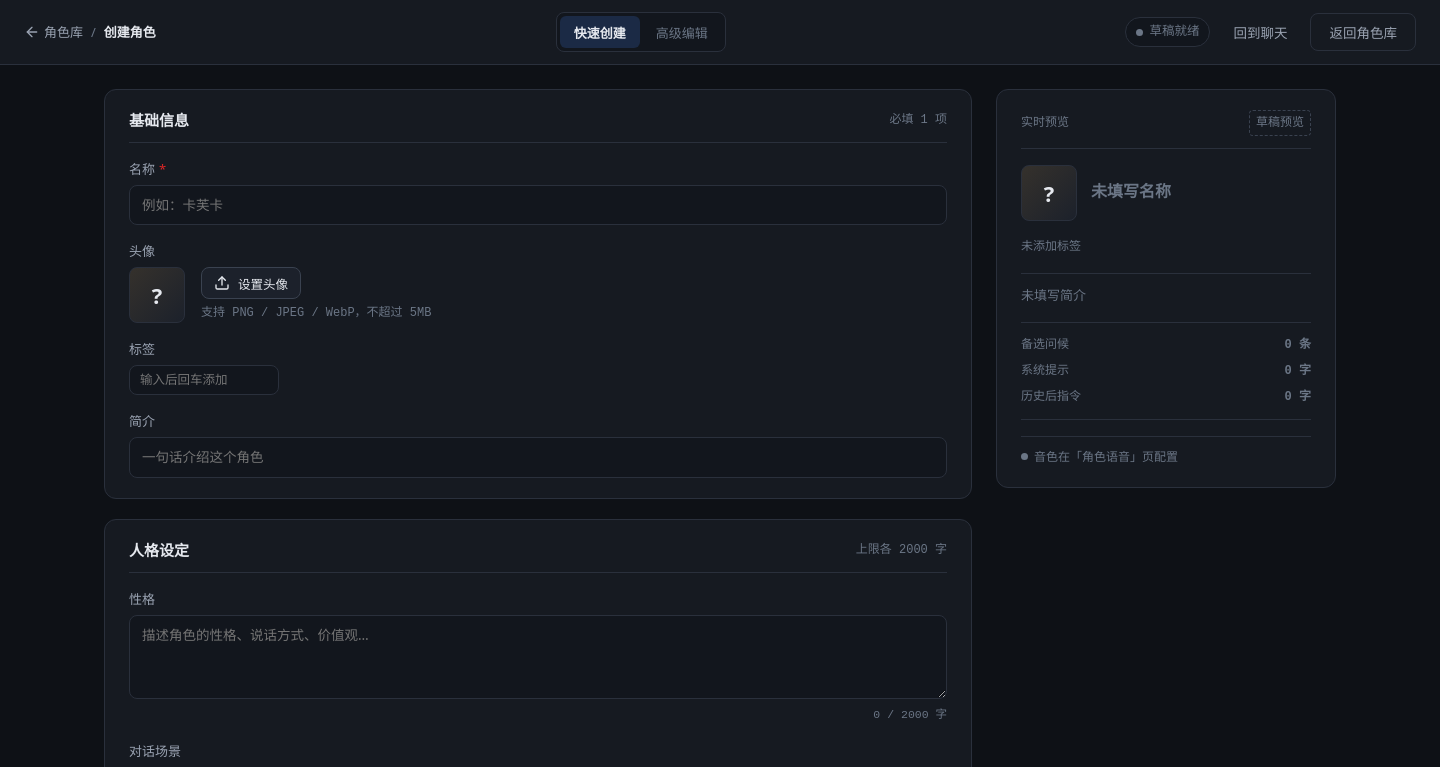
Test: CharacterCreatePage › 头像 › 未设置头像时使用名称首字符占位
The width and height of the screenshot is (1440, 767).
expect the text with test id "avatar-preview" reads "?": met, box [152,280,162,310]
Type "流萤" into the field labelled "名称 *".
click(538, 205); type("流萤")  # box [129,185,947,225]
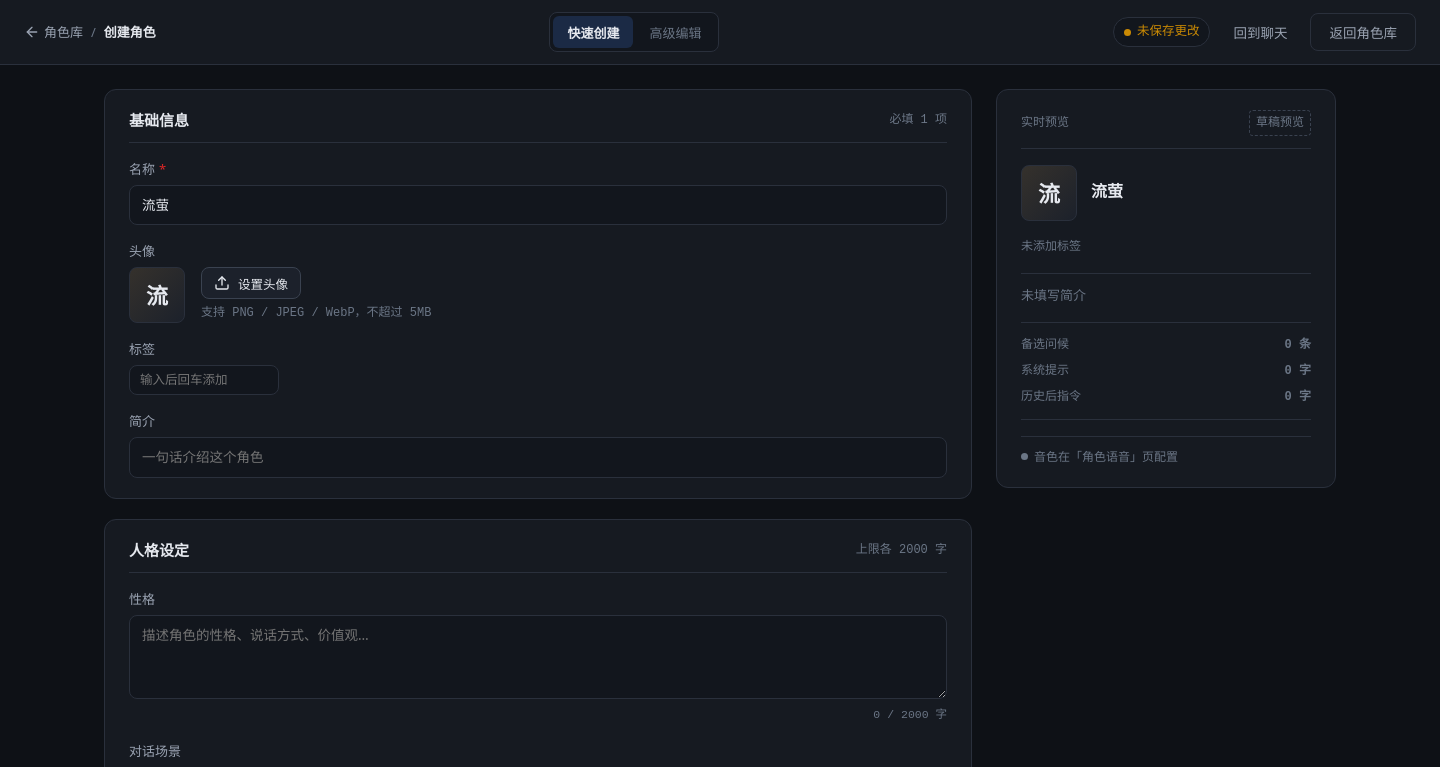
expect the text with test id "avatar-preview" reads "流": met, box [146,280,168,310]
